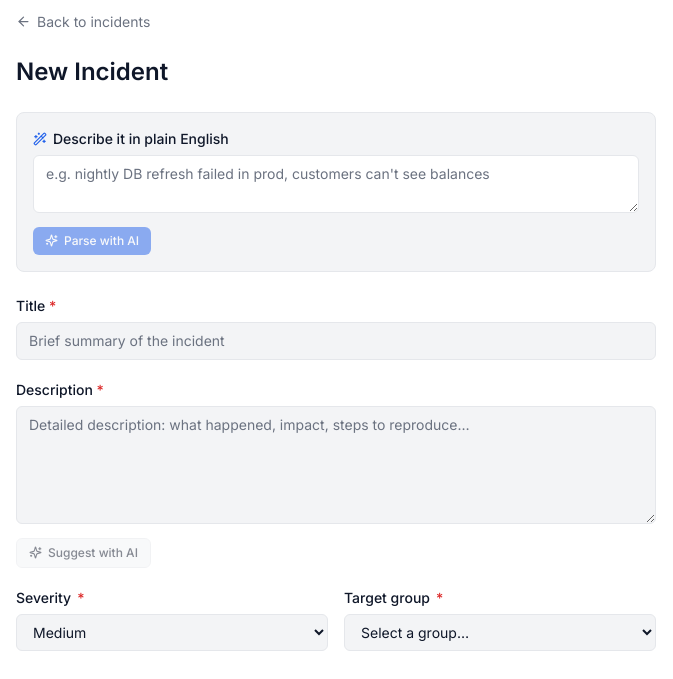
Test: CreateIncidentPage › prefills the whole form from a parsed intake draft without auto-creating the incident
Replace the text in the text box with placeholder "nightly DB refresh failed in prod" with "nightly DB refresh failed, customers cannot see balances" at [336, 184], box [33,154,639,212]
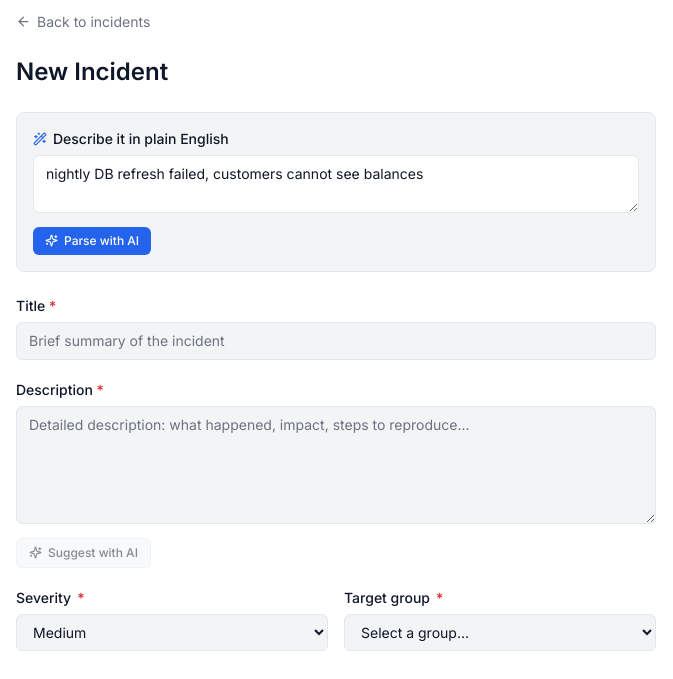
Click the button "Parse with AI".
click(92, 240)  # box [33,226,151,254]
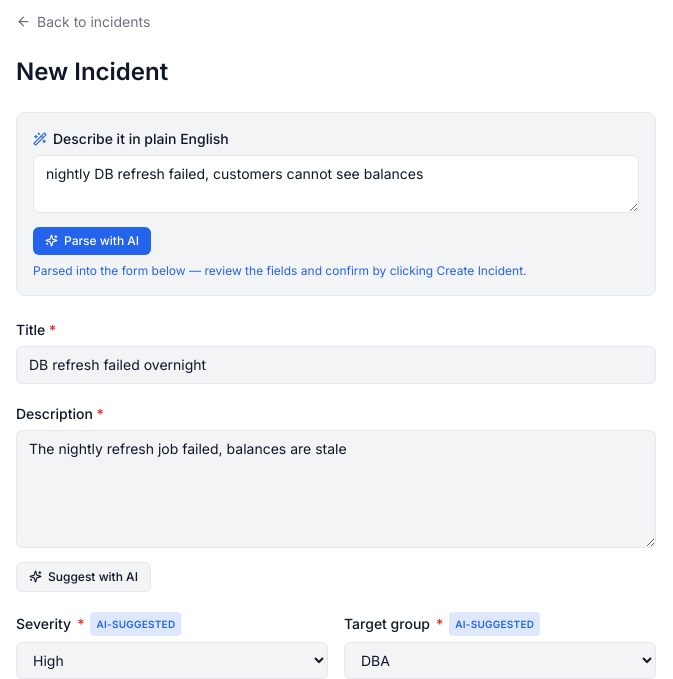
Expected: the field showing "DB refresh failed overnight" is shown, [16,346,656,384]
Expected: the text box showing "The nightly refresh job failed, balances are stale" below "Description" is shown, [16,430,656,548]
Expected: the text "Parsed into the form below" is shown, [33,262,526,278]
